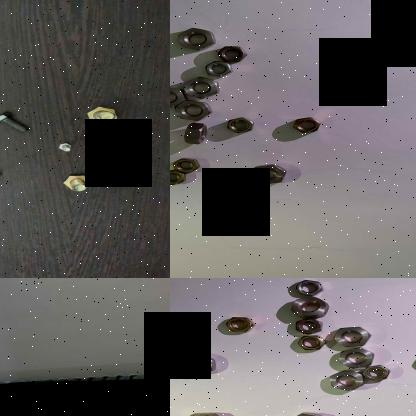Bolts: (54, 172, 96, 194), (0, 111, 30, 137), (82, 105, 120, 125), (48, 142, 73, 154)
NUTS: (176, 24, 219, 57), (290, 294, 331, 320), (174, 354, 218, 378), (247, 164, 292, 186), (326, 368, 366, 392), (182, 76, 220, 100), (332, 326, 372, 348), (176, 99, 212, 123), (181, 120, 207, 150), (337, 348, 372, 370), (212, 42, 250, 62), (292, 278, 330, 297), (357, 362, 393, 382), (292, 315, 326, 336), (198, 60, 238, 77), (224, 315, 256, 334), (290, 116, 323, 134), (224, 116, 254, 135), (297, 336, 328, 354), (170, 157, 198, 174), (170, 85, 186, 109), (170, 169, 187, 187), (288, 410, 328, 416)
